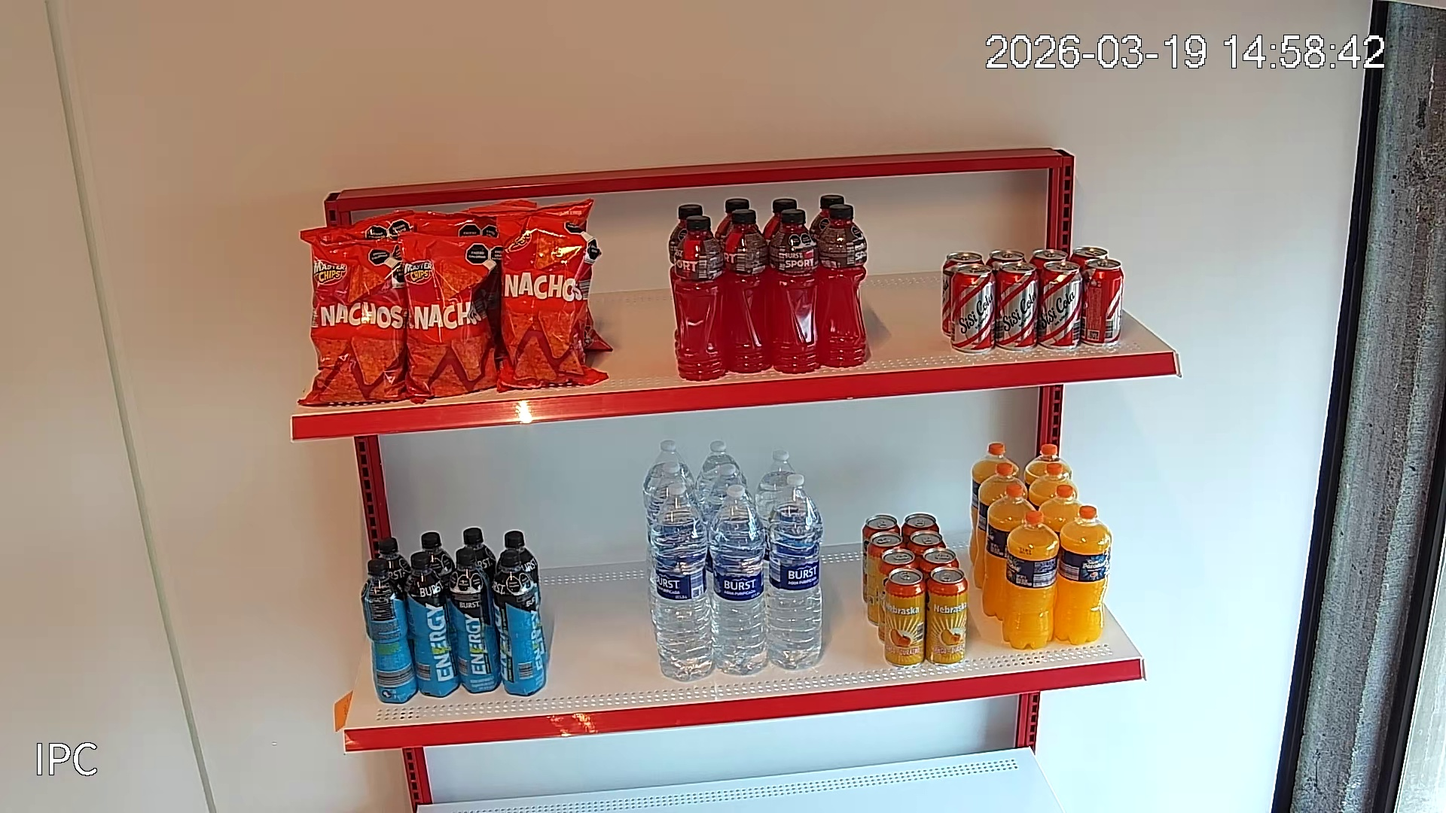agua_burst: (766, 474, 823, 671), (701, 464, 755, 531), (644, 440, 694, 510)
burst_energetica_roja: (674, 215, 727, 381), (721, 209, 773, 372), (714, 198, 750, 243)
burst_energy: (496, 530, 549, 664), (421, 532, 458, 671), (463, 527, 496, 584)
nachos_naturasol: (496, 214, 608, 392), (397, 233, 502, 399)
nebraska_mango: (878, 548, 919, 644), (918, 547, 959, 587), (901, 512, 939, 548)
sisi_cola: (942, 252, 986, 337), (985, 249, 1026, 277), (1029, 250, 1068, 278)
sun_paradise_naranja: (1054, 504, 1111, 645), (1002, 510, 1059, 649), (1039, 484, 1082, 537)
